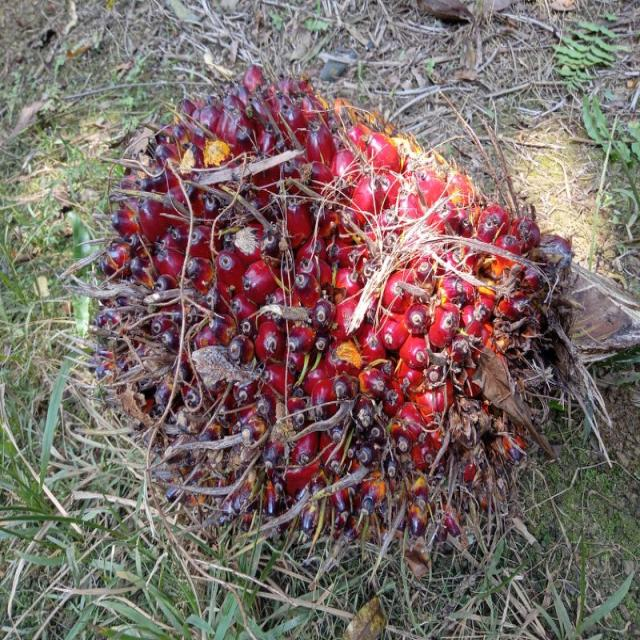fraksi 1: (53, 55, 616, 592)
